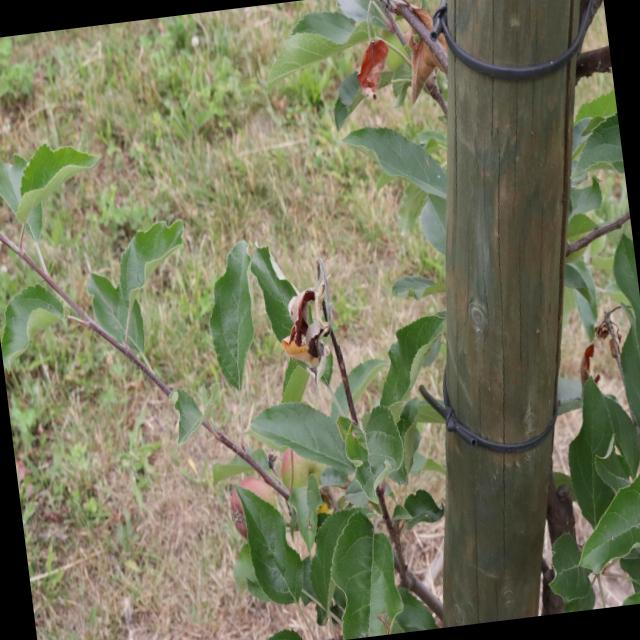-FireBlight-: (280, 286, 330, 368), (578, 313, 620, 387)
